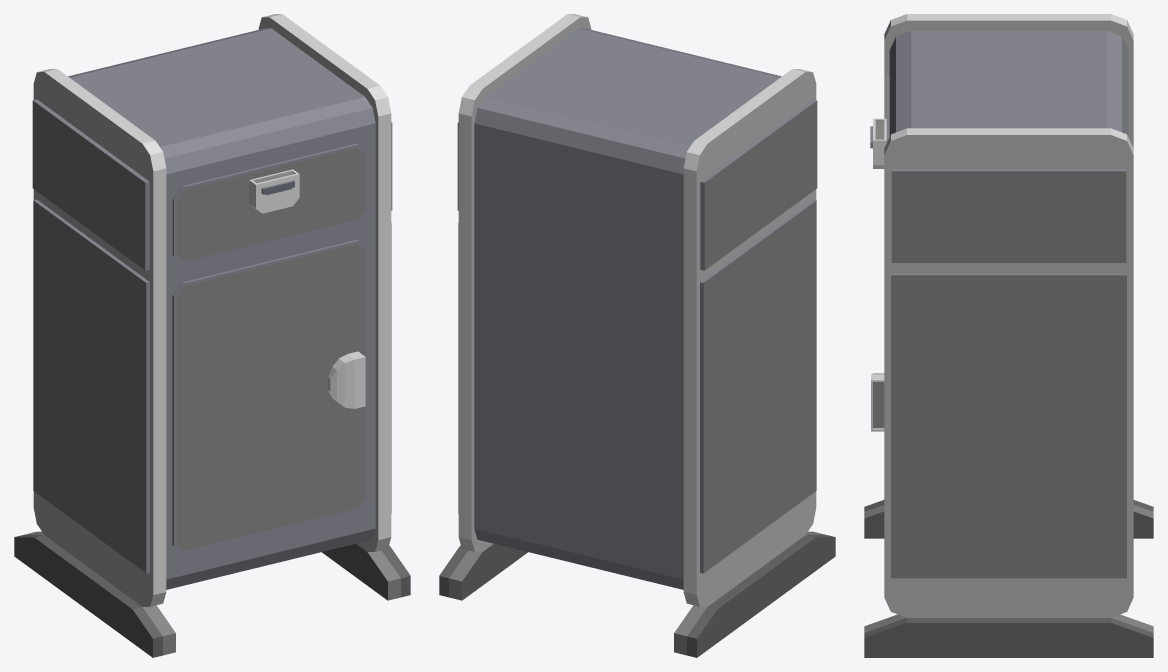
File: Drawer_03.glb
3 renders of one model, left to right at view 1: azimuth 30°, elevation 25°; view 2: azimuth 150°, elevation 25°; view 3: azimuth 270°, elevation 25°, orthographic. The views are drawn at different scales.
Parts seen in each view (by area): view 1: Drawer_03; view 2: Drawer_03; view 3: Drawer_03.
Boxes of the visible parts, x1,y1,x2,y2 form: Drawer_03: [14, 14, 410, 657]; Drawer_03: [439, 14, 835, 657]; Drawer_03: [864, 14, 1153, 657].
Size of what is drawn, in the model's own units: 0.6945 by 1.28 by 0.6476.
Materials: 1 (1 with a texture image).
